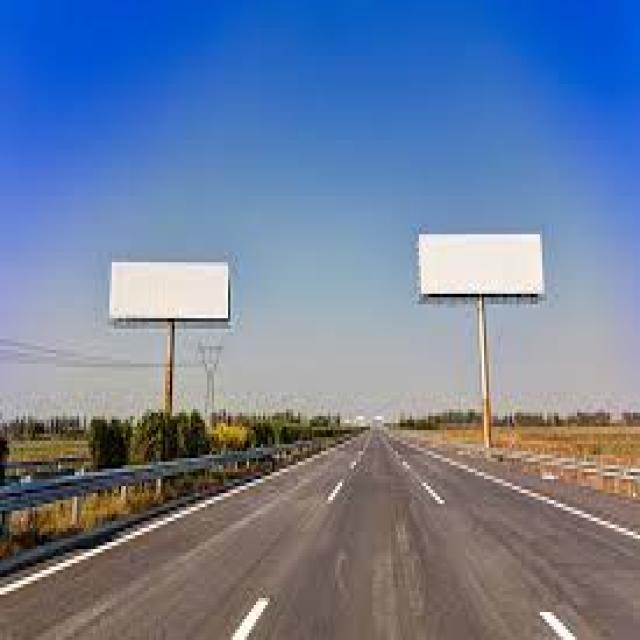Billboard_LHS: (100, 248, 237, 343)
Billboard_RHS: (411, 217, 555, 313)
Roadcorner: (1, 446, 322, 598), (427, 439, 638, 551)
Roadlane: (390, 444, 596, 637), (218, 446, 372, 637)
